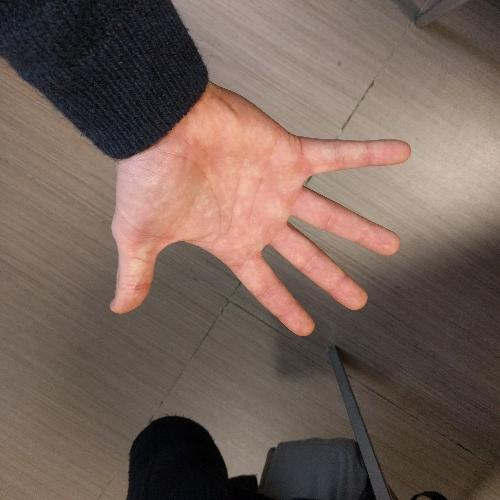paper: (105, 75, 415, 342)
